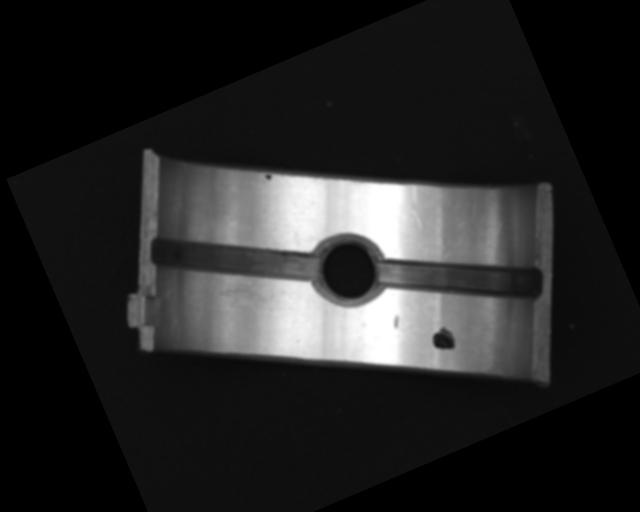blot: (427, 323, 459, 356), (262, 170, 274, 183)
bruise: (398, 182, 434, 232), (390, 313, 404, 330)
gap: (146, 185, 323, 332), (375, 209, 547, 350)
hole: (302, 223, 393, 317)
scratch: (198, 264, 288, 336)
